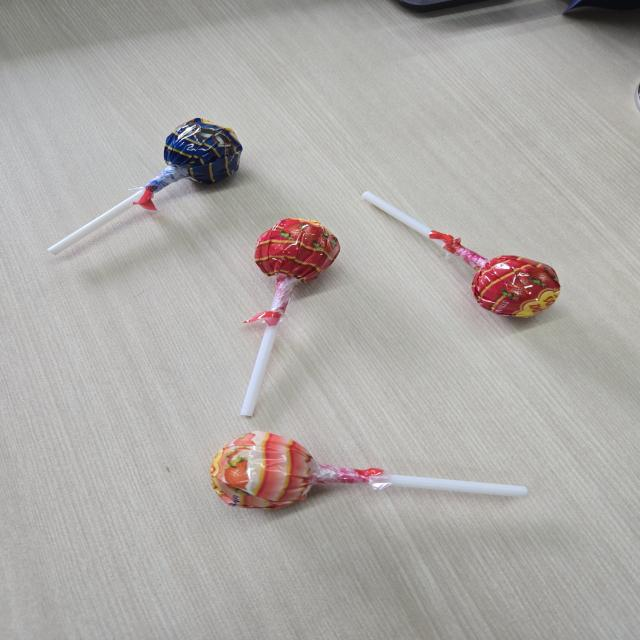lollipop: (355, 180, 579, 328), (206, 427, 535, 526), (44, 114, 245, 256), (241, 206, 344, 419)
